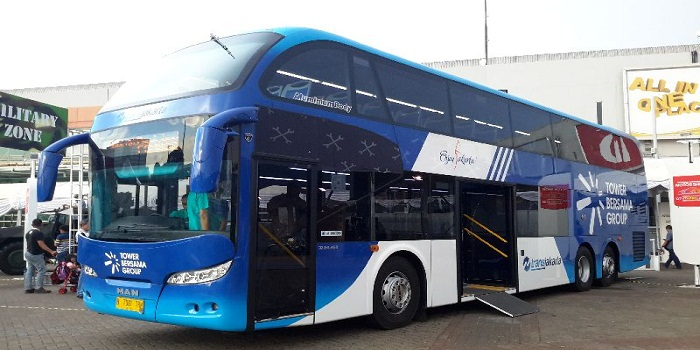plate: (111, 295, 146, 313)
